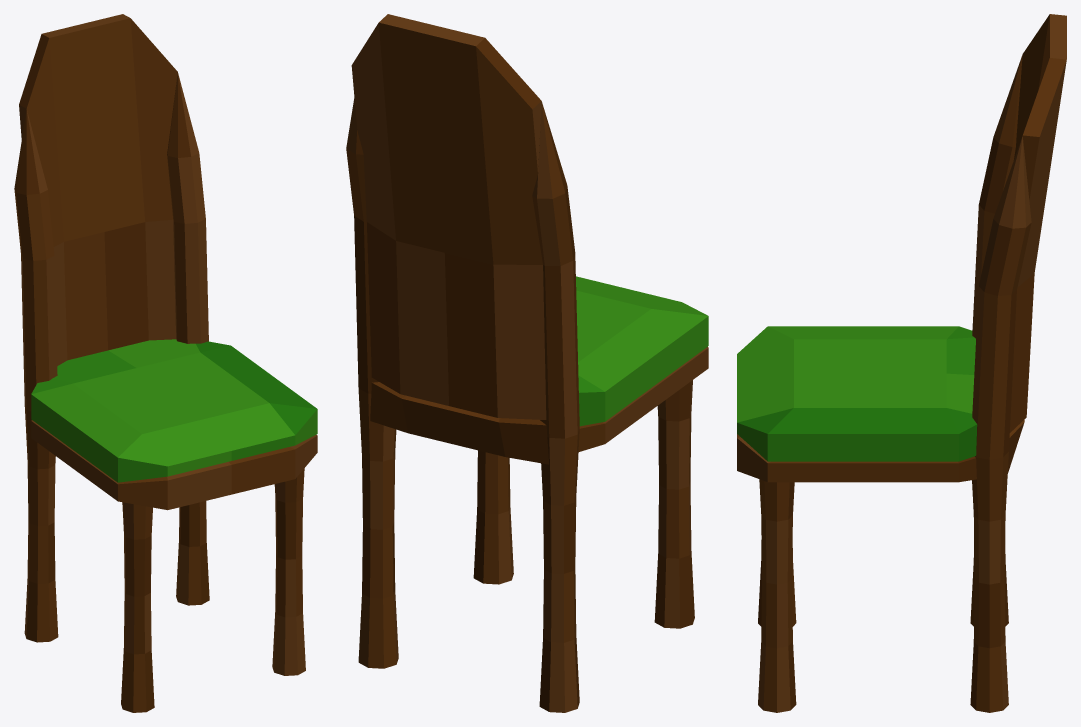
The model's file is castle_town_interior_chair.fbx.
3 renders of one model, left to right at view 1: azimuth 30°, elevation 25°; view 2: azimuth 150°, elevation 25°; view 3: azimuth 270°, elevation 25°, orthographic. The views are drawn at different scales.
Visible parts, largest first — view 1: chair.011; view 2: chair.011; view 3: chair.011.
Boxes of the visible parts, x1,y1,x2,y2 form: chair.011: (14,14,317,712); chair.011: (346,14,708,712); chair.011: (737,14,1066,712).
Size of the model in its own units: 563 by 1183 by 435.
